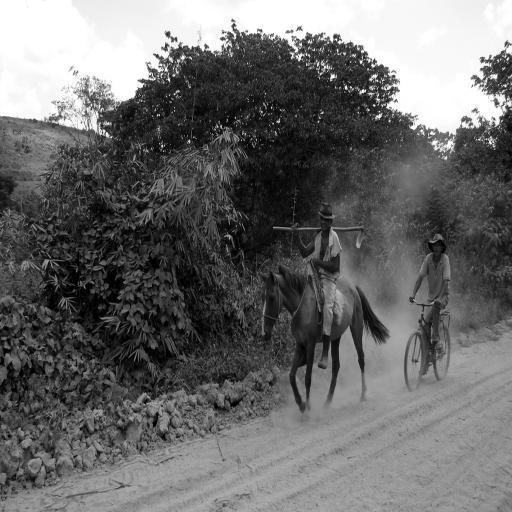horse: (259, 270, 390, 414)
